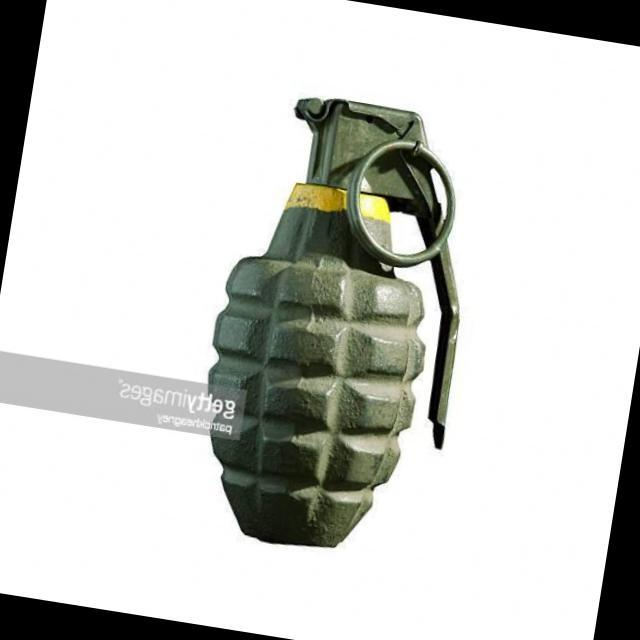grenade: (170, 81, 500, 578)
